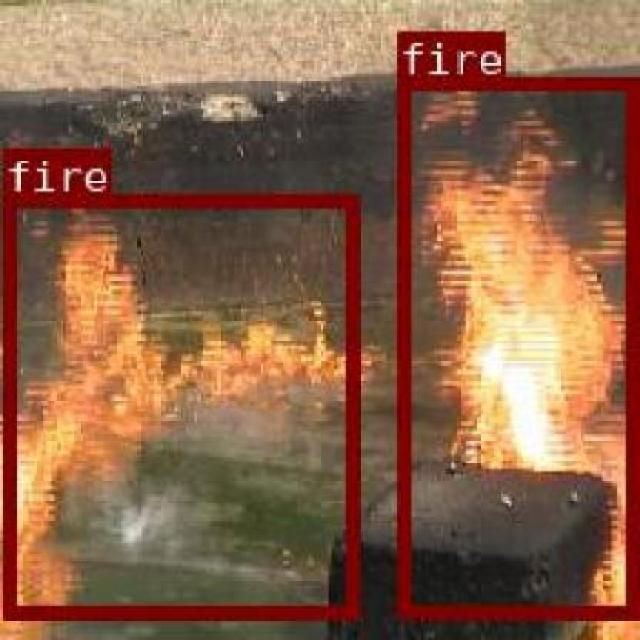Fire: (0, 192, 357, 617), (396, 75, 635, 614)
